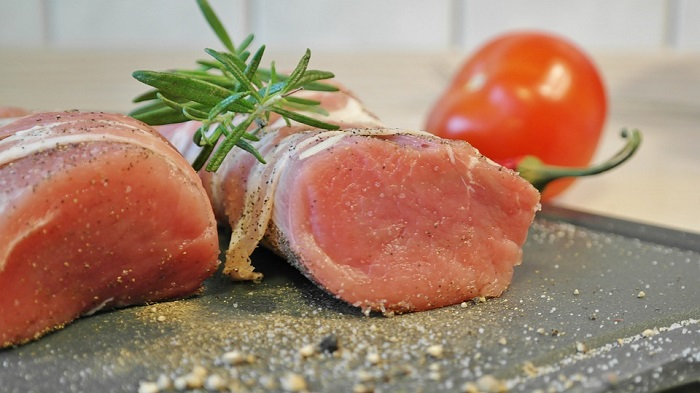bacon: (1, 63, 534, 362)
